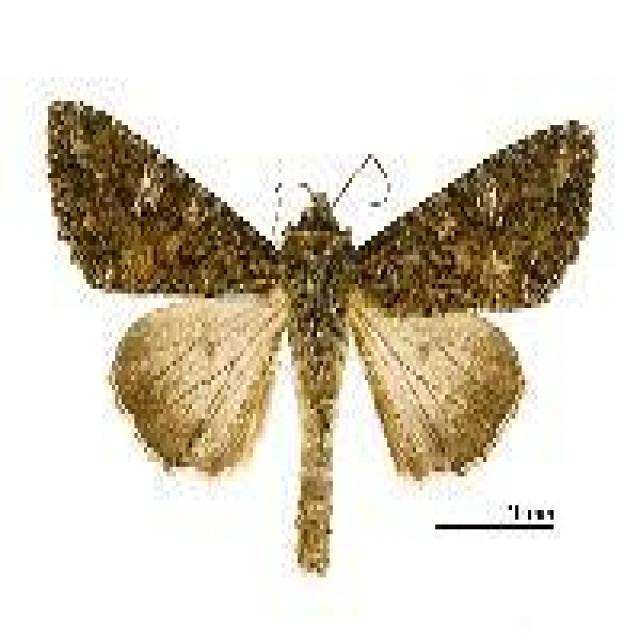armyworm: (60, 85, 599, 491)
